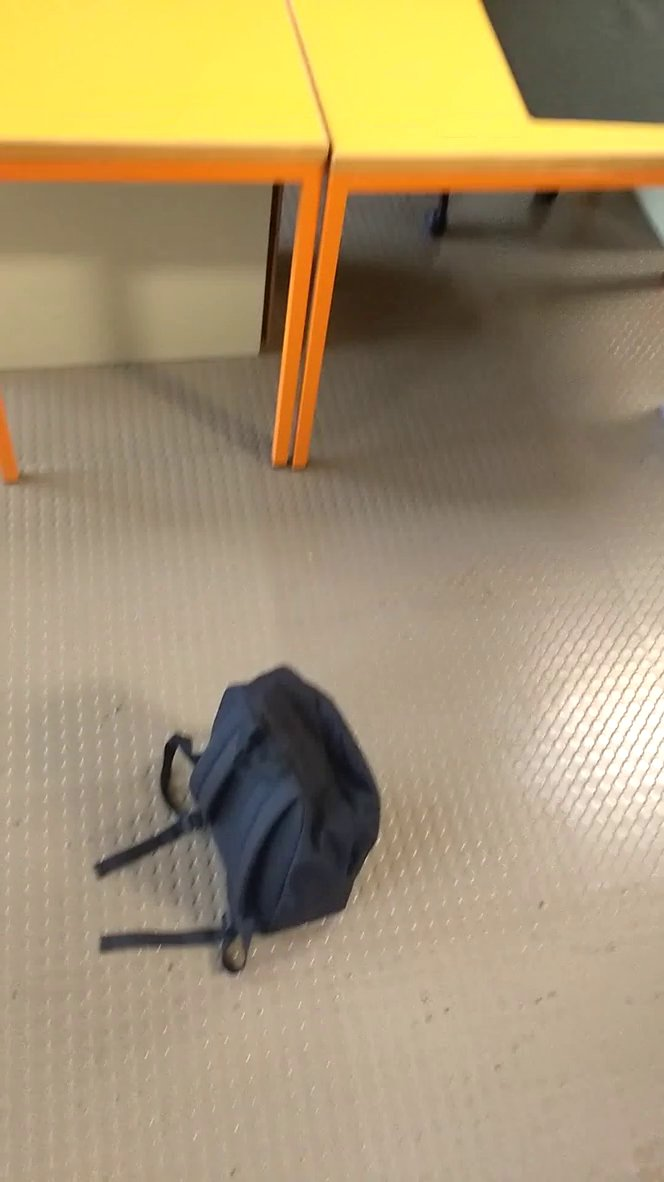bag: (95, 636, 390, 976)
